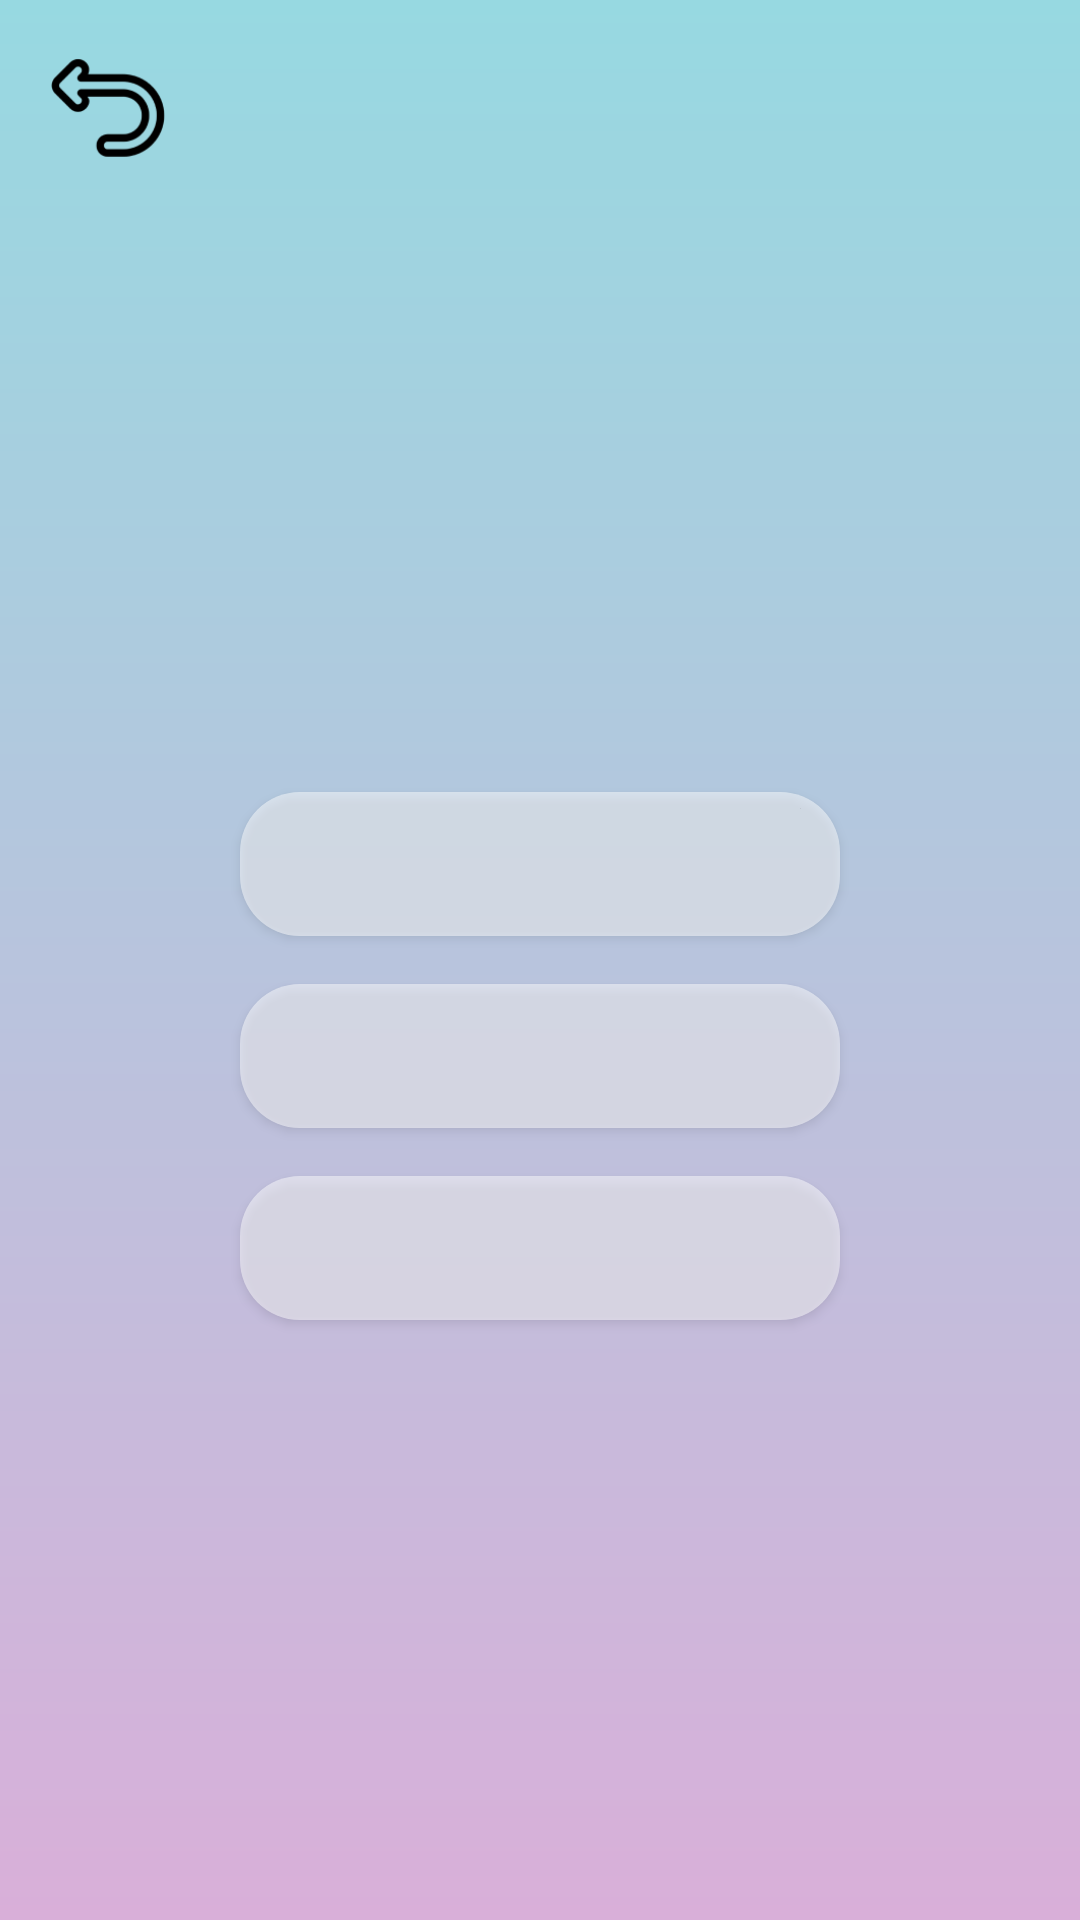

Icons on this 1080 × 1920 Android screen, each with the point to tap as [x,y]:
back: [108,108]
